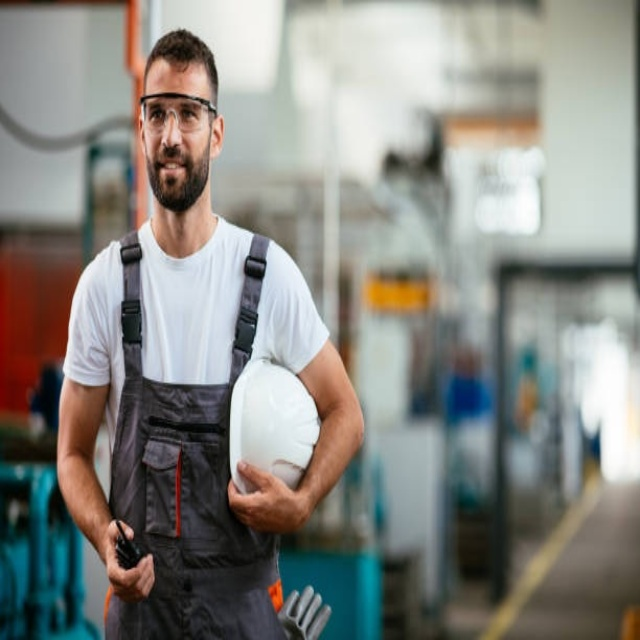Gafas: (140, 96, 218, 136)
Sin_guantes: (228, 461, 306, 541), (105, 517, 154, 602)
Sin_mascara: (154, 152, 191, 198)
